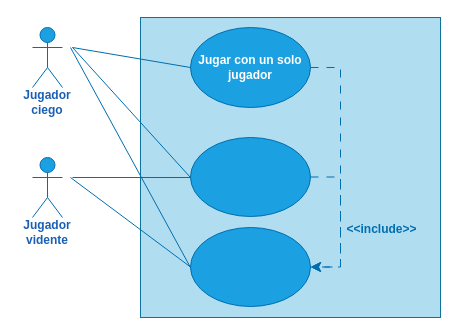
The diagram is 458 pixels wide and 335 high, and some of its shapes have lost their labels. Each missing label, with the centre of its shape:
"Configurar volúmenes" goes at (250,266).
"Jugar con dos jugadores" goes at (250,176).
